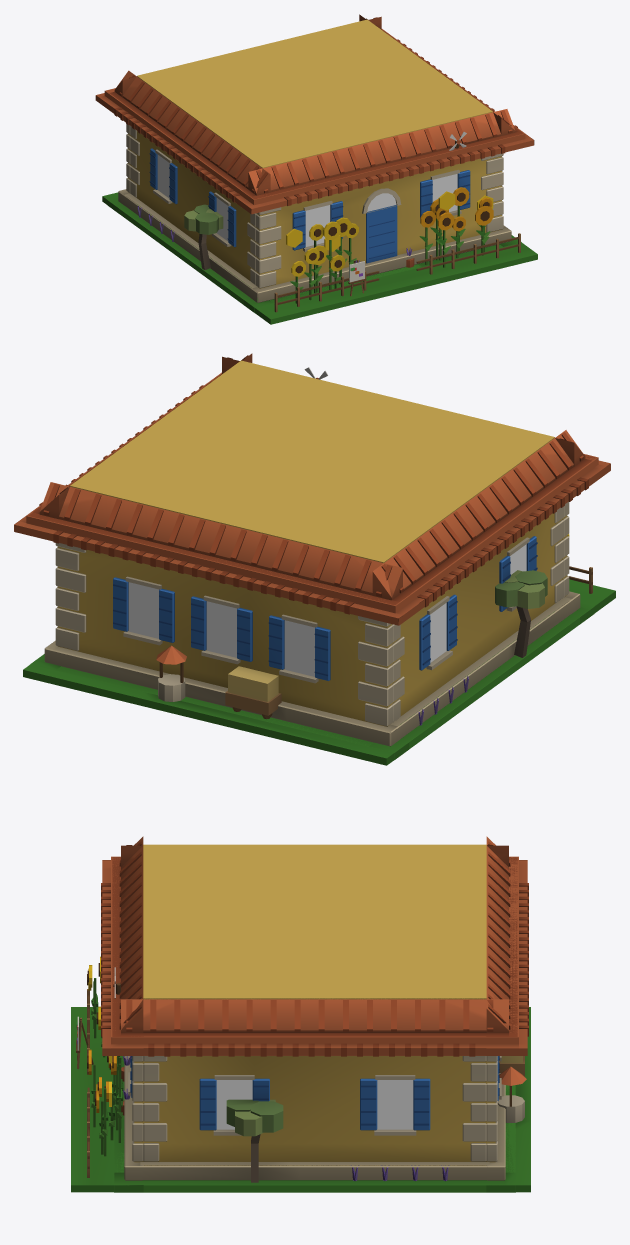
File: SunflowersFloor.fbx
The picture shows the model from 3 angles, top to bottom: view 1: azimuth 30°, elevation 25°; view 2: azimuth 150°, elevation 25°; view 3: azimuth 270°, elevation 25°; orthographic projection. The views are drawn at different scales.
Parts seen in each view (by area): view 1: SF_F_Rings, SF_S_All, SF_F_Smooth, SF_F_Quiet, SF_F_Glass, SF_F_Props; view 2: SF_F_Rings, SF_S_All, SF_F_Smooth, SF_F_Quiet, SF_F_Glass, SF_F_Props; view 3: SF_F_Rings, SF_S_All, SF_F_Smooth, SF_F_Quiet, SF_F_Props, SF_F_Glass.
Part boxes in pixels (box(x1,y1,x2,y2)): SF_F_Rings: box(96, 14, 533, 302); SF_S_All: box(104, 19, 525, 312); SF_F_Smooth: box(95, 17, 537, 324); SF_F_Quiet: box(102, 192, 537, 319); SF_F_Glass: box(157, 154, 457, 246); SF_F_Props: box(184, 204, 414, 270); SF_F_Rings: box(14, 353, 610, 746); SF_S_All: box(26, 360, 598, 759); SF_F_Smooth: box(14, 355, 615, 765); SF_F_Quiet: box(23, 579, 615, 758); SF_F_Glass: box(128, 544, 526, 676); SF_F_Props: box(156, 570, 547, 715); SF_F_Rings: box(102, 836, 527, 1180); SF_S_All: box(109, 844, 518, 1192); SF_F_Smooth: box(71, 841, 530, 1192); SF_F_Quiet: box(71, 1007, 530, 1185); SF_F_Props: box(91, 1003, 526, 1182); SF_F_Glass: box(216, 1080, 413, 1129).
Size of the model in its own units: 60 by 20 by 60.
